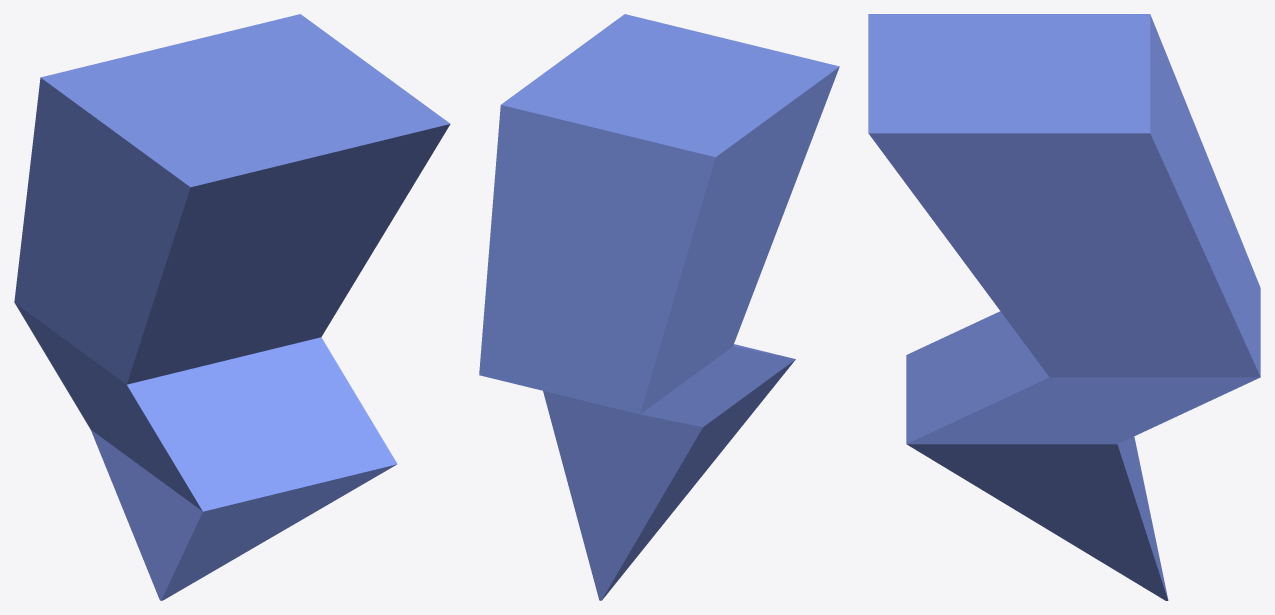
The model's file is Bolt.obj.
3 views of the same model, side by side, from view 1: azimuth 30°, elevation 25°; view 2: azimuth 150°, elevation 25°; view 3: azimuth 270°, elevation 25° (orthographic). The views are drawn at different scales.
Parts seen in each view (by area): view 1: Cube_Cube.002; view 2: Cube_Cube.002; view 3: Cube_Cube.002.
Boxes of the visible parts, x1=… form: Cube_Cube.002: x1=14, y1=14, x2=450, y2=600; Cube_Cube.002: x1=479, y1=14, x2=839, y2=600; Cube_Cube.002: x1=868, y1=14, x2=1260, y2=600.
Size of the model in its own units: 0.3039 by 0.6265 by 0.4229.
